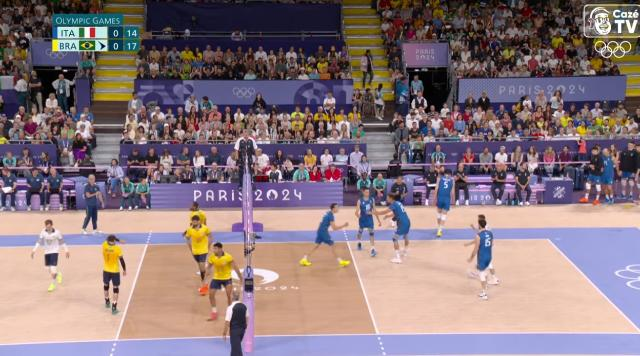Levantador: (306, 203, 340, 262), (102, 236, 125, 314)
Libero: (41, 220, 61, 288)
